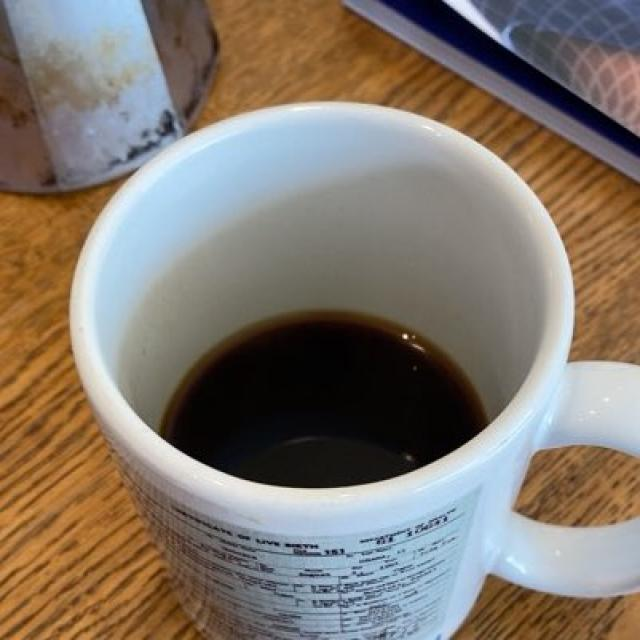coffee-with-caffeine: (149, 310, 486, 478)
